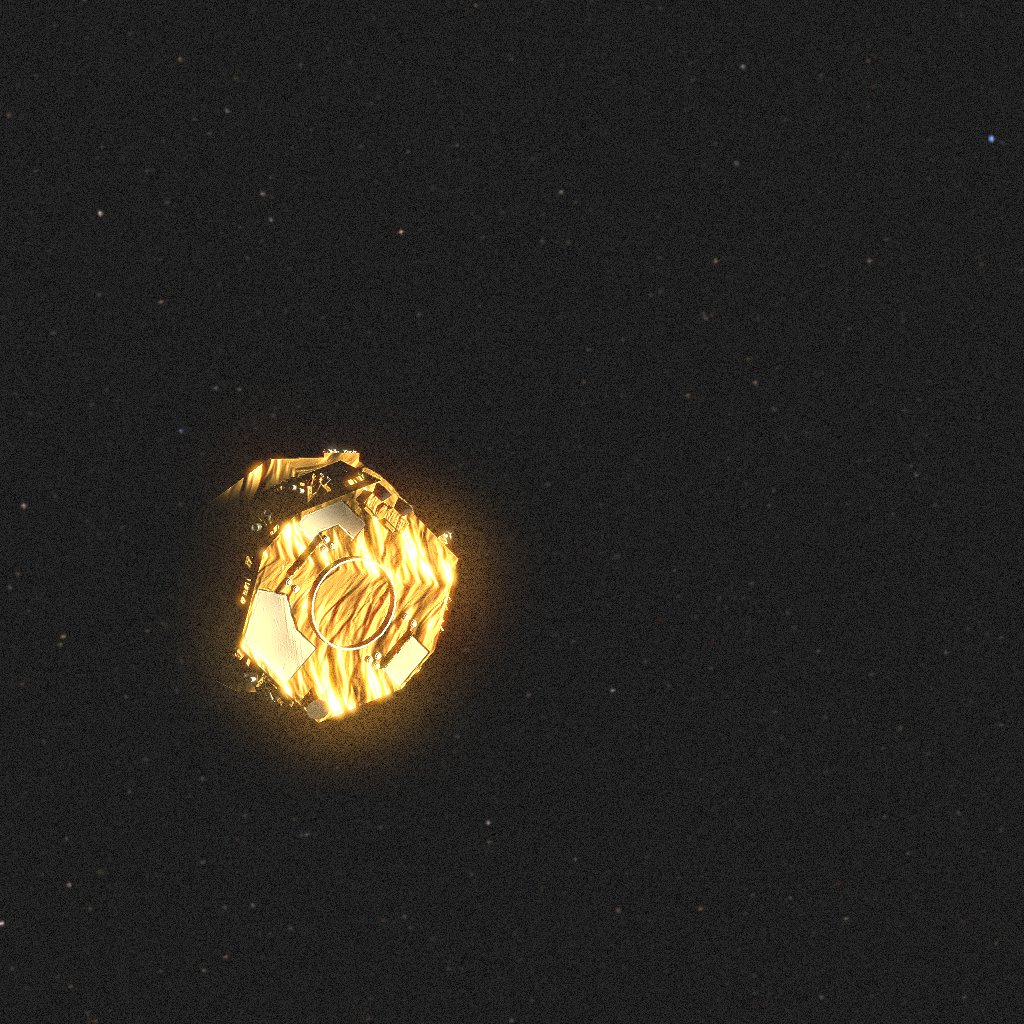lisa_pathfinder: (210, 443, 459, 702)
